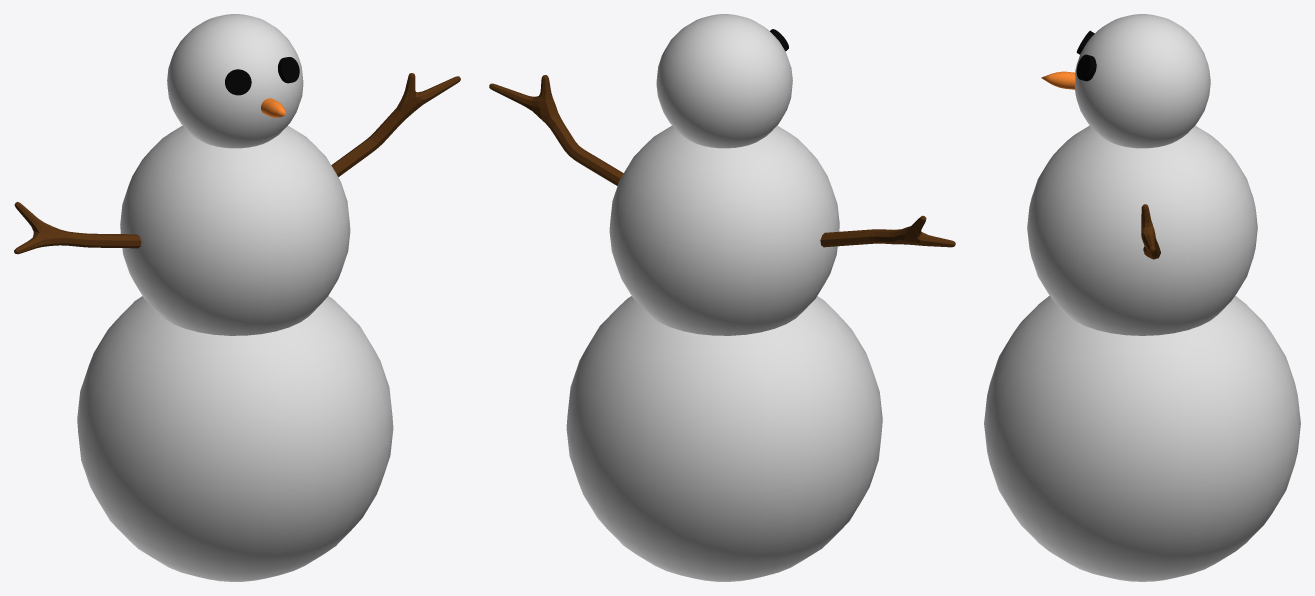
The model's file is snowman.fbx.
3 views of the same model, side by side, from view 1: azimuth 30°, elevation 25°; view 2: azimuth 150°, elevation 25°; view 3: azimuth 270°, elevation 25° (orthographic).
Parts seen in each view (by area): view 1: Bonhomme, Sphere.001, Sphere.002, Vert, Vert.001, Cylinder; view 2: Bonhomme, Sphere.001, Sphere.002, Vert, Vert.001; view 3: Bonhomme, Sphere.001, Sphere.002, Vert, Cone, Cylinder.001.
Part boxes in pixels (x1,y1,x2,y2): Bonhomme: [77, 296, 393, 581]; Sphere.001: [120, 125, 350, 335]; Sphere.002: [167, 14, 303, 148]; Vert: [331, 73, 460, 176]; Vert.001: [14, 202, 141, 254]; Cylinder: [225, 69, 251, 95]; Bonhomme: [566, 296, 882, 581]; Sphere.001: [609, 125, 839, 335]; Sphere.002: [656, 14, 792, 148]; Vert: [489, 75, 623, 185]; Vert.001: [820, 215, 955, 247]; Bonhomme: [984, 295, 1300, 581]; Sphere.001: [1027, 125, 1257, 335]; Sphere.002: [1075, 14, 1210, 148]; Vert: [1141, 204, 1160, 259]; Cone: [1041, 71, 1075, 89]; Cylinder.001: [1076, 54, 1096, 81].
Size of the model in its own units: 42.85 by 49.13 by 25.8.
